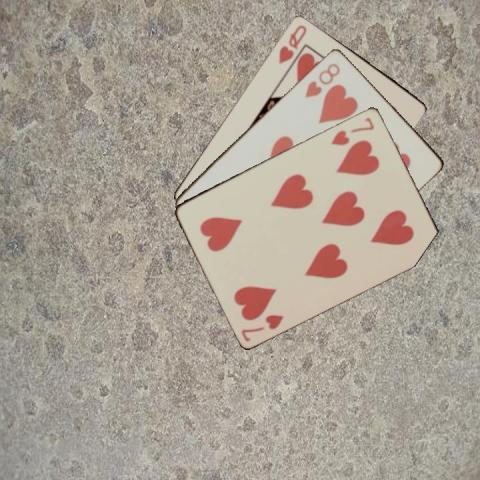7h: (327, 113, 376, 147), (238, 310, 285, 342)
8h: (301, 60, 342, 100)
Qh: (275, 21, 308, 66)
